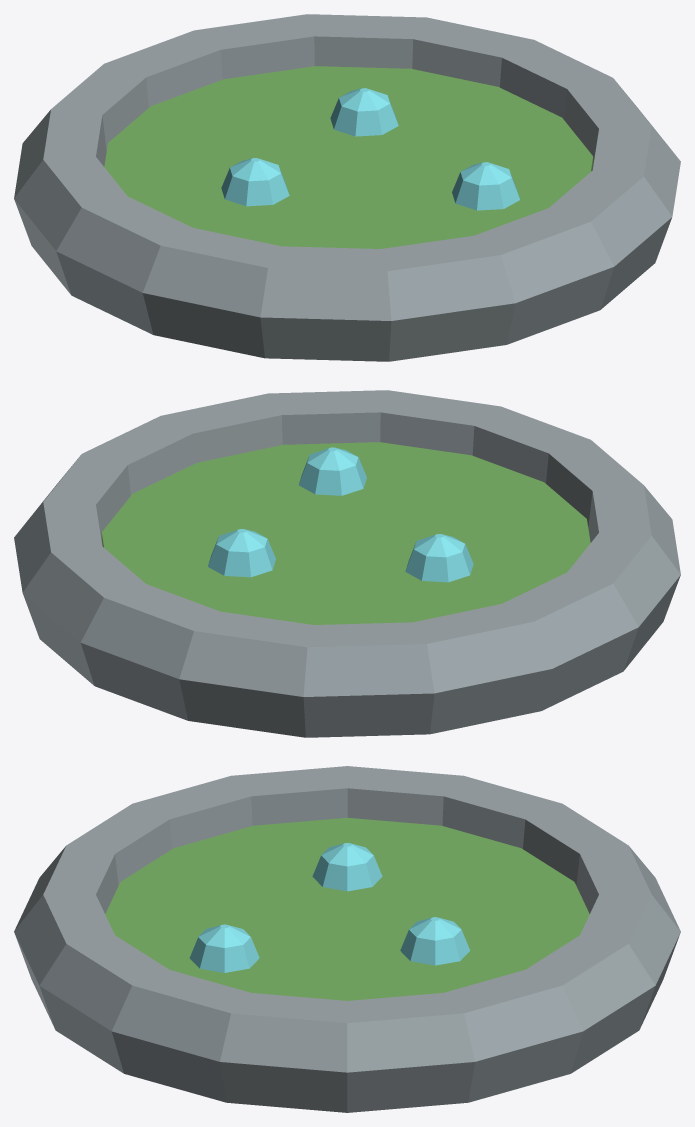
Rendered from HazardPool.fbx.
3 renders of one model, top to bottom at view 1: azimuth 30°, elevation 25°; view 2: azimuth 150°, elevation 25°; view 3: azimuth 270°, elevation 25°, orthographic.
Visible parts, largest first — view 1: HazardPool.002; view 2: HazardPool.002; view 3: HazardPool.002.
Part boxes in pixels (x1,y1,x2,y2): HazardPool.002: (14,14,680,361); HazardPool.002: (14,390,680,737); HazardPool.002: (14,766,680,1112).
Bounding box in the file's own units: 1.14 × 0.17 × 1.14.
